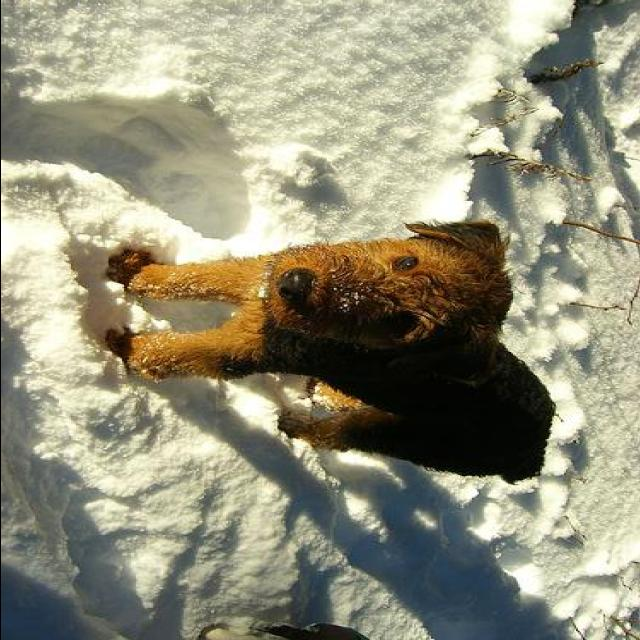airedale: (102, 220, 552, 481)
